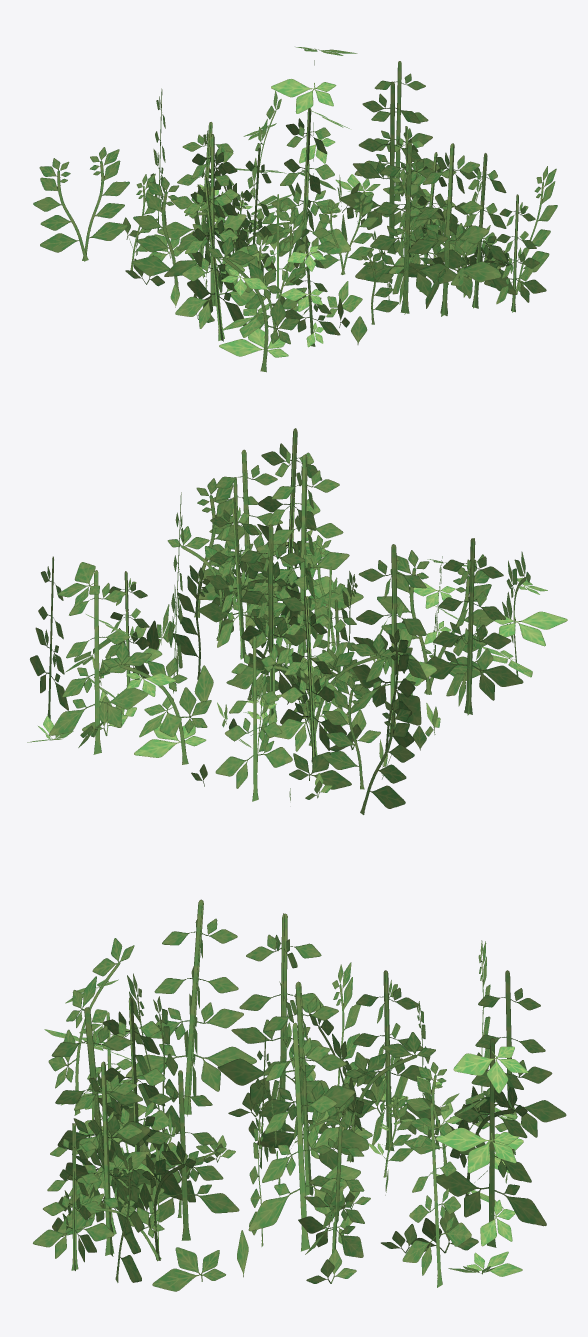
File: LeafSetF_20.fbx
3 views of the same model, one above another, from view 1: azimuth 30°, elevation 25°; view 2: azimuth 150°, elevation 25°; view 3: azimuth 270°, elevation 25° (orthographic). The views are drawn at different scales.
Visible parts, largest first — view 1: LeafSetF_20; view 2: LeafSetF_20; view 3: LeafSetF_20.
Part boxes in pixels (box(x1,y1,x2,y2)): LeafSetF_20: box(33, 47, 557, 372); LeafSetF_20: box(27, 428, 567, 814); LeafSetF_20: box(33, 899, 566, 1291).
Bounding box in the file's own units: 2.85 × 1.29 × 2.52.
